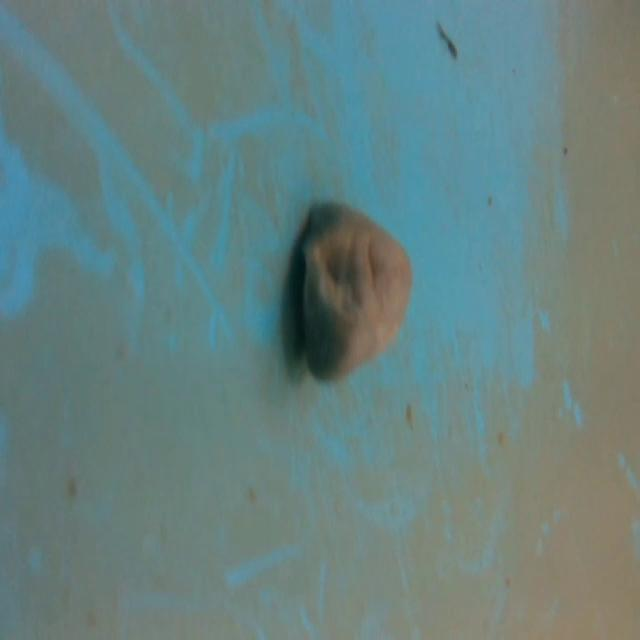rock: (285, 187, 420, 391)
